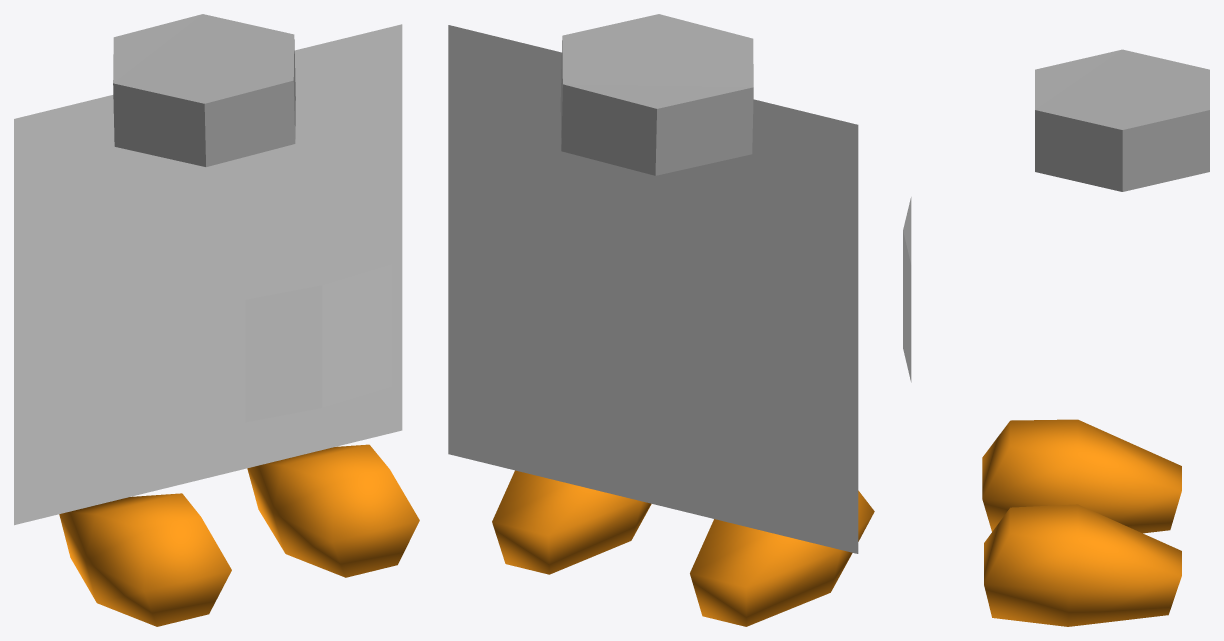
File: BobOmbRecreation.fbx
The picture shows the model from 3 angles, left to right: view 1: azimuth 30°, elevation 25°; view 2: azimuth 150°, elevation 25°; view 3: azimuth 270°, elevation 25°; orthographic projection. The views are drawn at different scales.
Visible parts, largest first — view 1: body, top, foot_right, foot_left, eye_right, eye_left; view 2: body, top, foot_right, foot_left; view 3: top, foot_left, foot_right, eye_left.
Boxes of the visible parts, left/top/right/bottom form: body: left=14, top=24, right=402, bottom=525; top: left=113, top=14, right=295, bottom=166; foot_right: left=59, top=493, right=231, bottom=626; foot_left: left=247, top=444, right=419, bottom=577; eye_right: left=245, top=285, right=322, bottom=422; eye_left: left=322, top=264, right=392, bottom=407; body: left=448, top=25, right=858, bottom=553; top: left=560, top=14, right=753, bottom=175; foot_right: left=690, top=490, right=874, bottom=626; foot_left: left=492, top=470, right=651, bottom=574; top: left=1035, top=49, right=1209, bottom=191; foot_left: left=984, top=504, right=1181, bottom=626; foot_right: left=982, top=419, right=1181, bottom=533; eye_left: left=903, top=231, right=911, bottom=382.
Bounding box in the file's own units: 0.98 × 1.19 × 0.6975.
